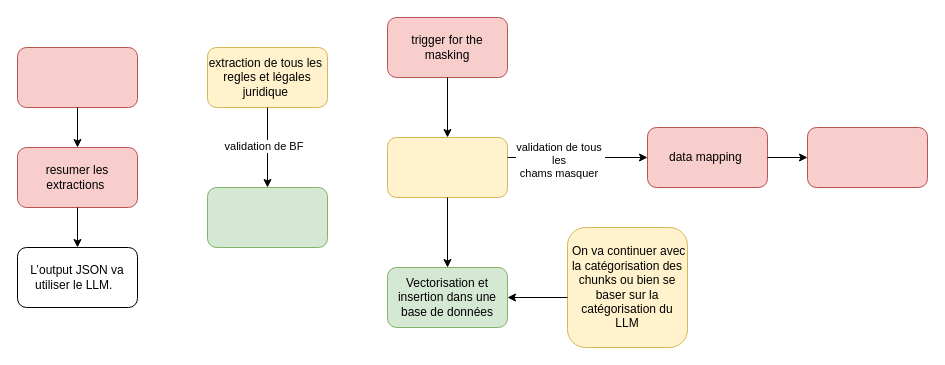
The diagram is 945 pixels wide and 365 high, and some of its shapes have lost their labels. The shapes that lost their labels are listed below. From the top down, each one's centre as x and y in pixels, then its label:
At (77,77): "extraction des historique des echange entre le citoyen et le BF".
At (447,167): "masking data".
At (867,157): "RE pseudonimization".
At (267,217): "vectorization des regles".
